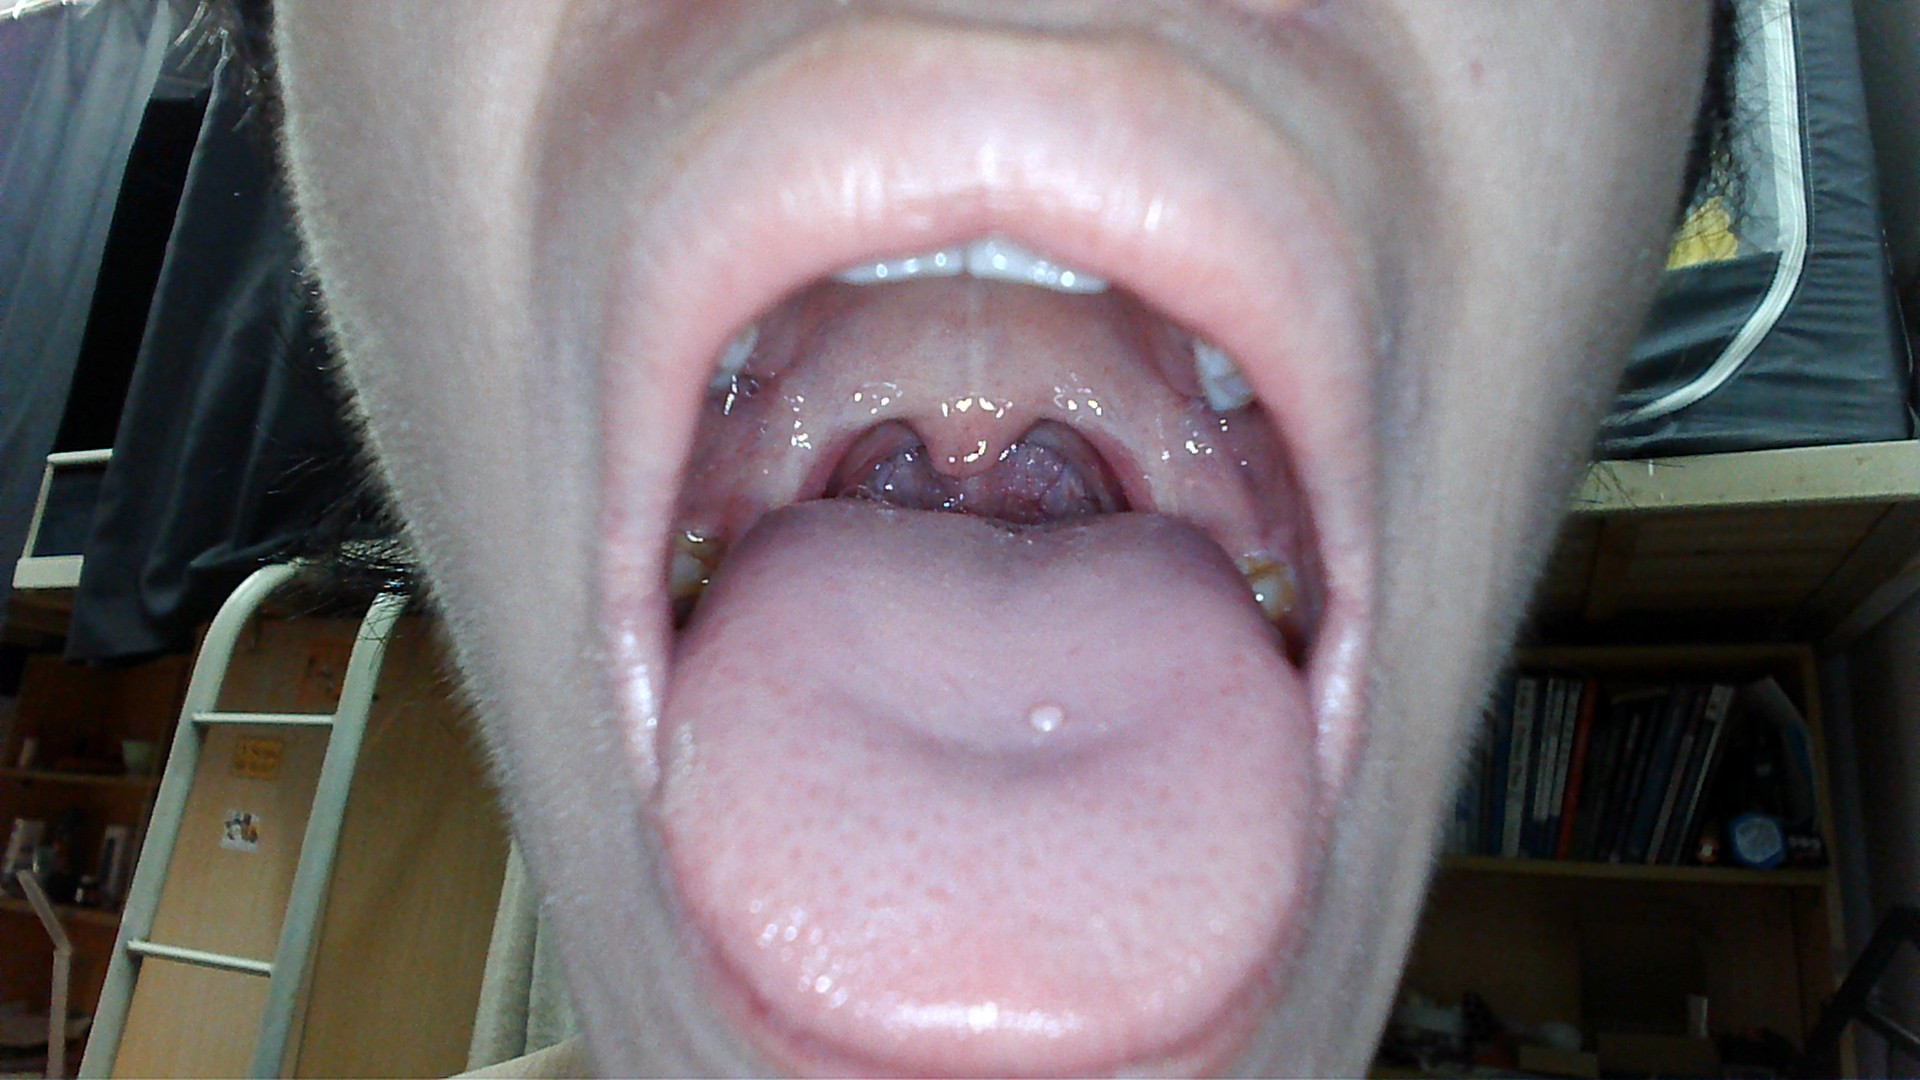throat: (1091, 407, 1162, 516), (790, 400, 866, 500)
